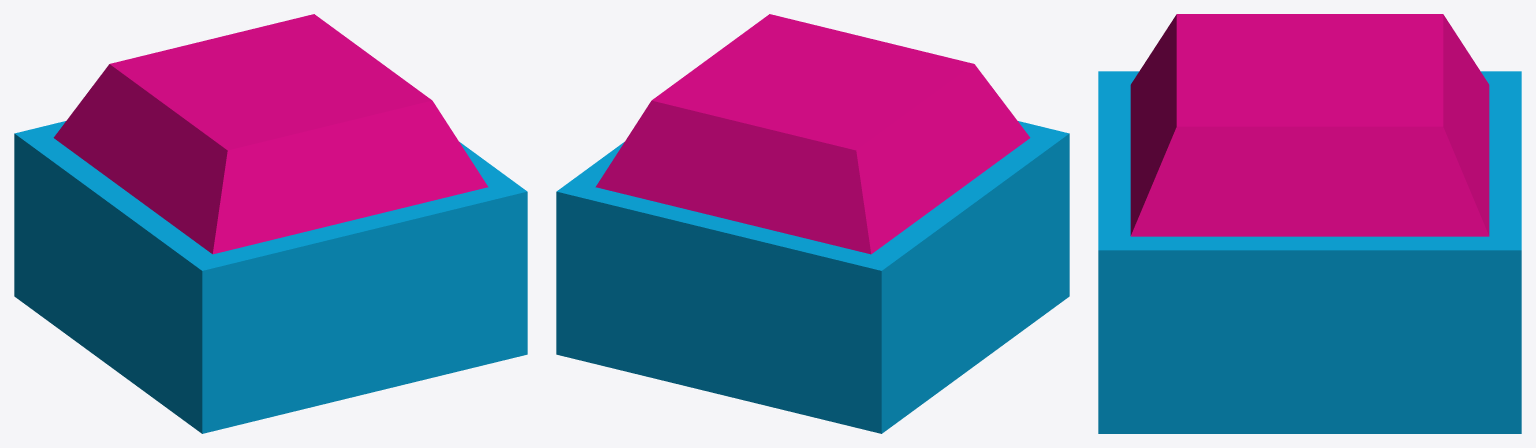
The model's file is Button.glb.
The picture shows the model from 3 angles, left to right: view 1: azimuth 30°, elevation 25°; view 2: azimuth 150°, elevation 25°; view 3: azimuth 270°, elevation 25°; orthographic projection. The views are drawn at different scales.
Visible parts, largest first — view 1: Cube; view 2: Cube; view 3: Cube.
Boxes of the visible parts, x1,y1,x2,y2 form: Cube: (14, 14, 527, 433); Cube: (556, 14, 1069, 433); Cube: (1098, 14, 1521, 433).
Bounding box in the file's own units: 0.4658 × 0.333 × 0.4658.
